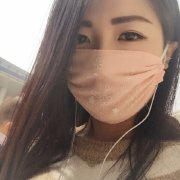OK: (59, 11, 167, 119)
